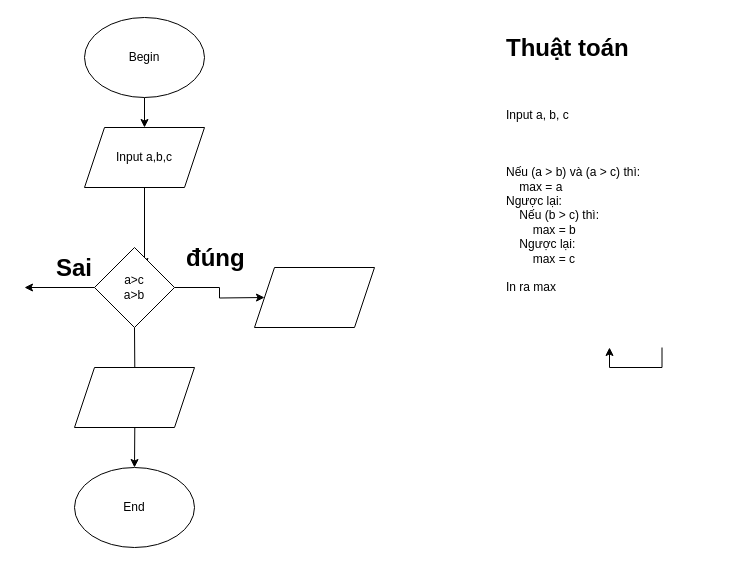
Image size: 732x565. Some labels were removed from this diagram. The shapes that lost their labels are listed below. From the top down, each one's box as (x1, y1, x2, y2) in pixels, then its label:
(254, 266, 374, 328): Out Put max a
(74, 366, 194, 428): Out Put
